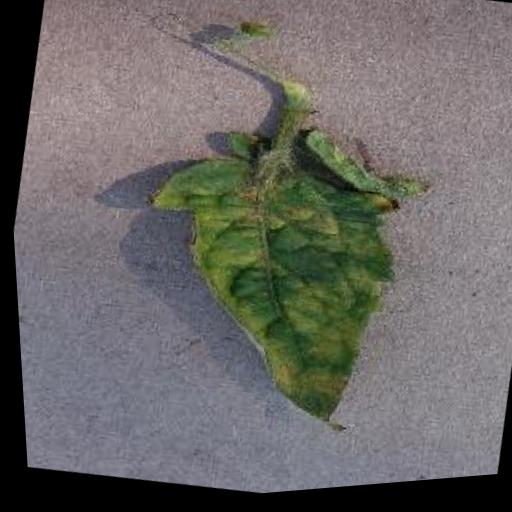Leaf Mold: (106, 93, 453, 463)
